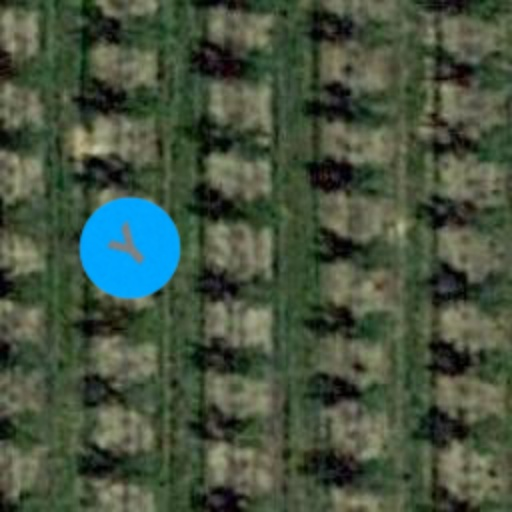circle: (58, 176, 202, 320)
